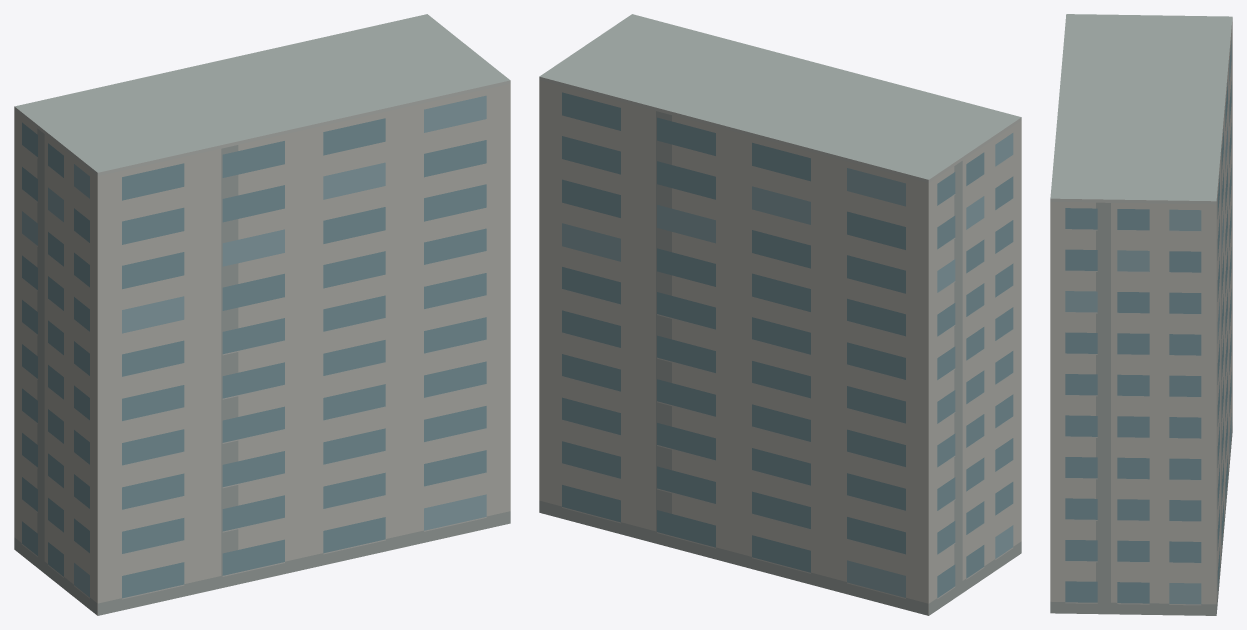
File: residential-336284ee-97a6-4e1e-9a4d-ba9646a9a83e.glb
3 renders of one model, left to right at view 1: azimuth 30°, elevation 25°; view 2: azimuth 150°, elevation 25°; view 3: azimuth 270°, elevation 25°, orthographic. The views are drawn at different scales.
Parts seen in each view (by area): view 1: residential-336284ee-97a6-4e1e-9a4d-ba9646a9a83e.tmp; view 2: residential-336284ee-97a6-4e1e-9a4d-ba9646a9a83e.tmp; view 3: residential-336284ee-97a6-4e1e-9a4d-ba9646a9a83e.tmp.
Part boxes in pixels (x1=…): residential-336284ee-97a6-4e1e-9a4d-ba9646a9a83e.tmp: x1=14, y1=14, x2=510, y2=615; residential-336284ee-97a6-4e1e-9a4d-ba9646a9a83e.tmp: x1=539, y1=14, x2=1021, y2=615; residential-336284ee-97a6-4e1e-9a4d-ba9646a9a83e.tmp: x1=1050, y1=14, x2=1232, y2=615.
Bounding box in the file's own units: 29.54 × 30.5 × 12.16.
